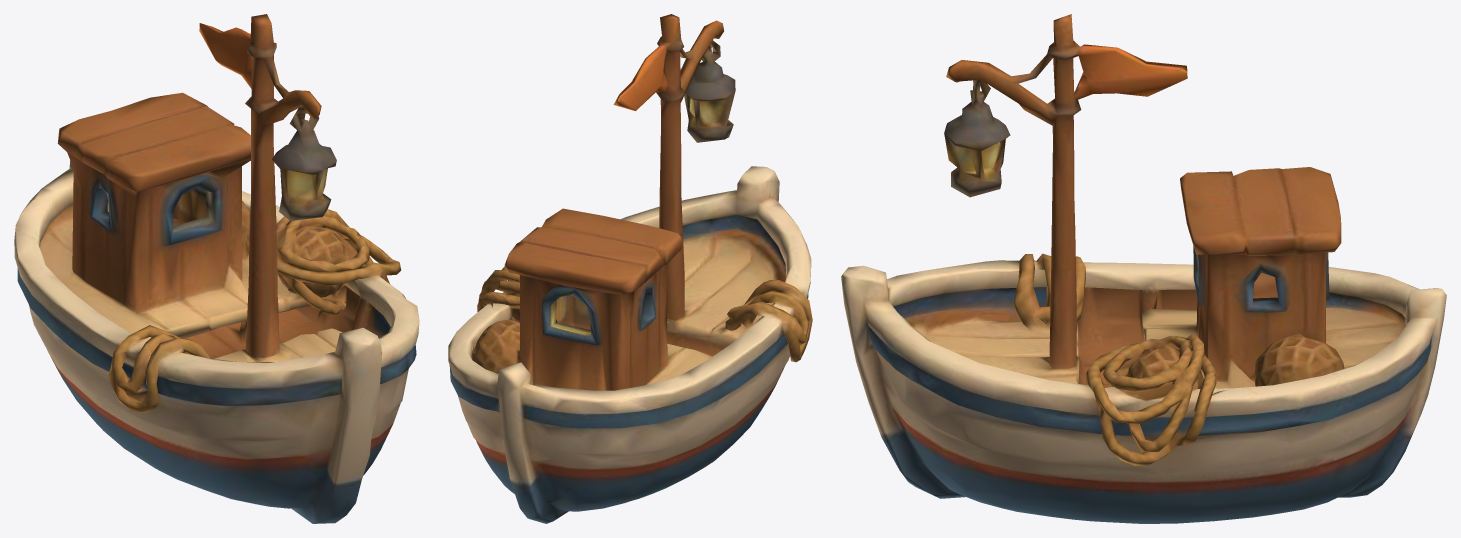
The model's file is boat.glb.
3 views of the same model, side by side, from view 1: azimuth 30°, elevation 25°; view 2: azimuth 150°, elevation 25°; view 3: azimuth 270°, elevation 25° (orthographic). The views are drawn at different scales.
Parts seen in each view (by area): view 1: tripo_node_a9235926-8fbb-433e-9836-8589c537a62a; view 2: tripo_node_a9235926-8fbb-433e-9836-8589c537a62a; view 3: tripo_node_a9235926-8fbb-433e-9836-8589c537a62a.
Part boxes in pixels (left/top/right/bottom): tripo_node_a9235926-8fbb-433e-9836-8589c537a62a: left=14, top=14, right=419, bottom=523; tripo_node_a9235926-8fbb-433e-9836-8589c537a62a: left=448, top=14, right=812, bottom=523; tripo_node_a9235926-8fbb-433e-9836-8589c537a62a: left=841, top=14, right=1446, bottom=523.
Size of the model in its own units: 0.619 by 0.8679 by 1.
Materials: 1 (1 with a texture image).
